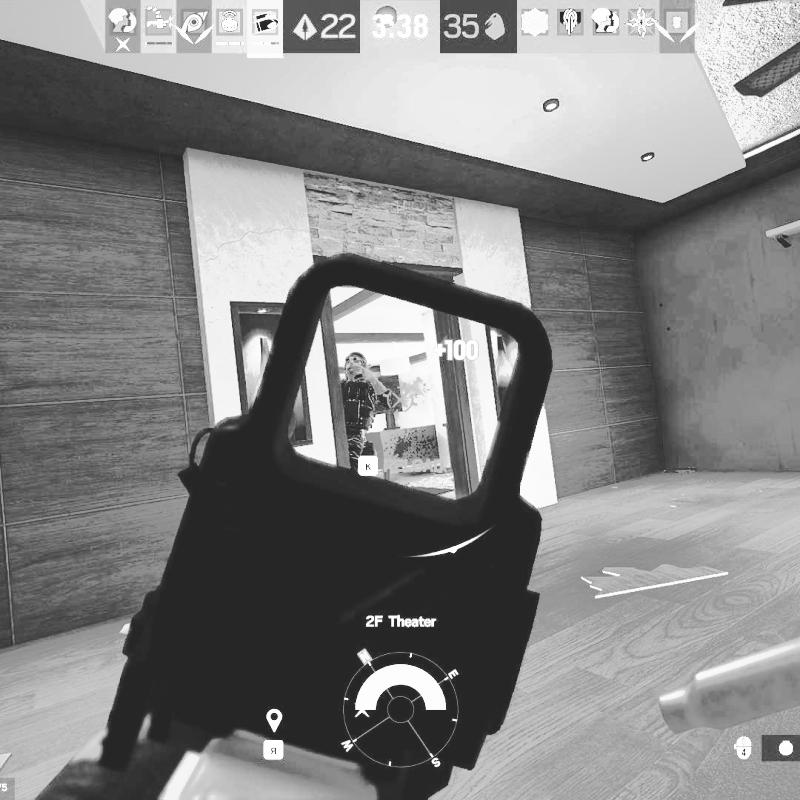Character: (336, 349, 394, 475)
Head: (344, 349, 368, 380)
